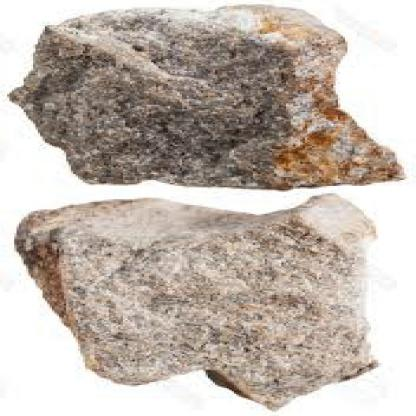Metamorphic_Quartize: (14, 202, 407, 412), (7, 3, 407, 190)
